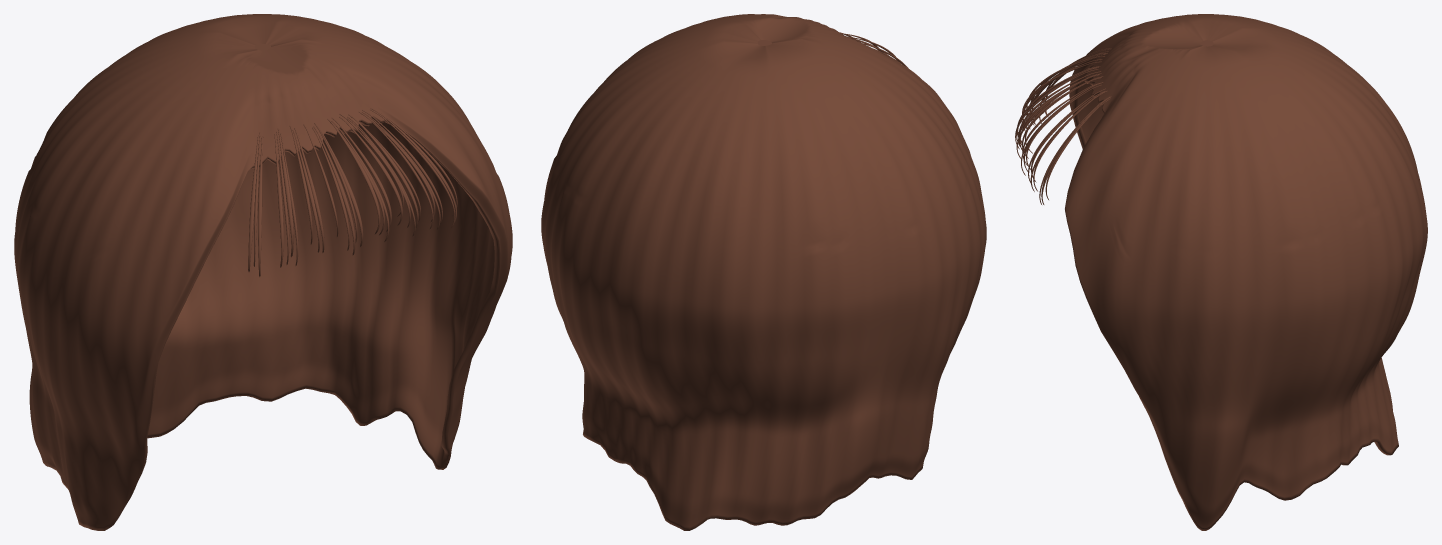
The model's file is side-sweep-cowboy.glb.
3 renders of one model, left to right at view 1: azimuth 30°, elevation 25°; view 2: azimuth 150°, elevation 25°; view 3: azimuth 270°, elevation 25°, orthographic. The views are drawn at different scales.
Parts seen in each view (by area): view 1: Hair / layered lob, Fringe / fine strands; view 2: Hair / layered lob; view 3: Hair / layered lob, Fringe / fine strands.
Boxes of the visible parts, x1,y1,x2,y2 form: Hair / layered lob: (14, 14, 512, 530); Fringe / fine strands: (248, 107, 457, 276); Hair / layered lob: (541, 14, 986, 530); Hair / layered lob: (1065, 14, 1427, 530); Fringe / fine strands: (1015, 48, 1111, 204).
Size of the model in its own units: 0.8388 by 0.8737 by 0.782.
